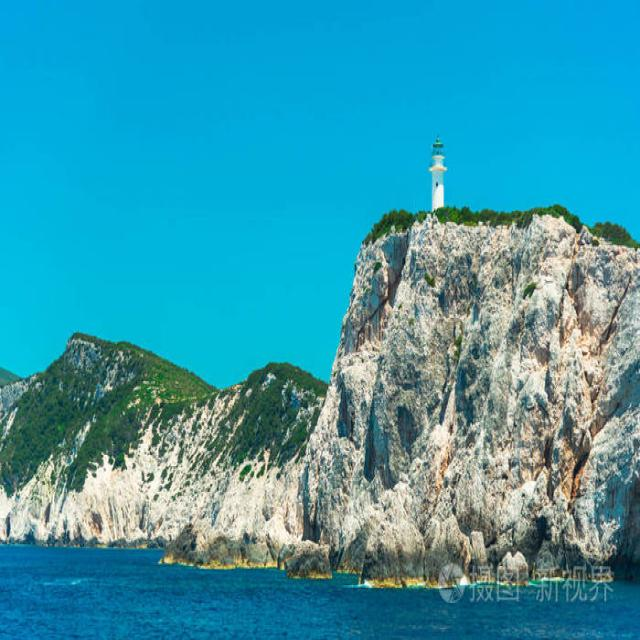reef: (161, 416, 517, 602)
